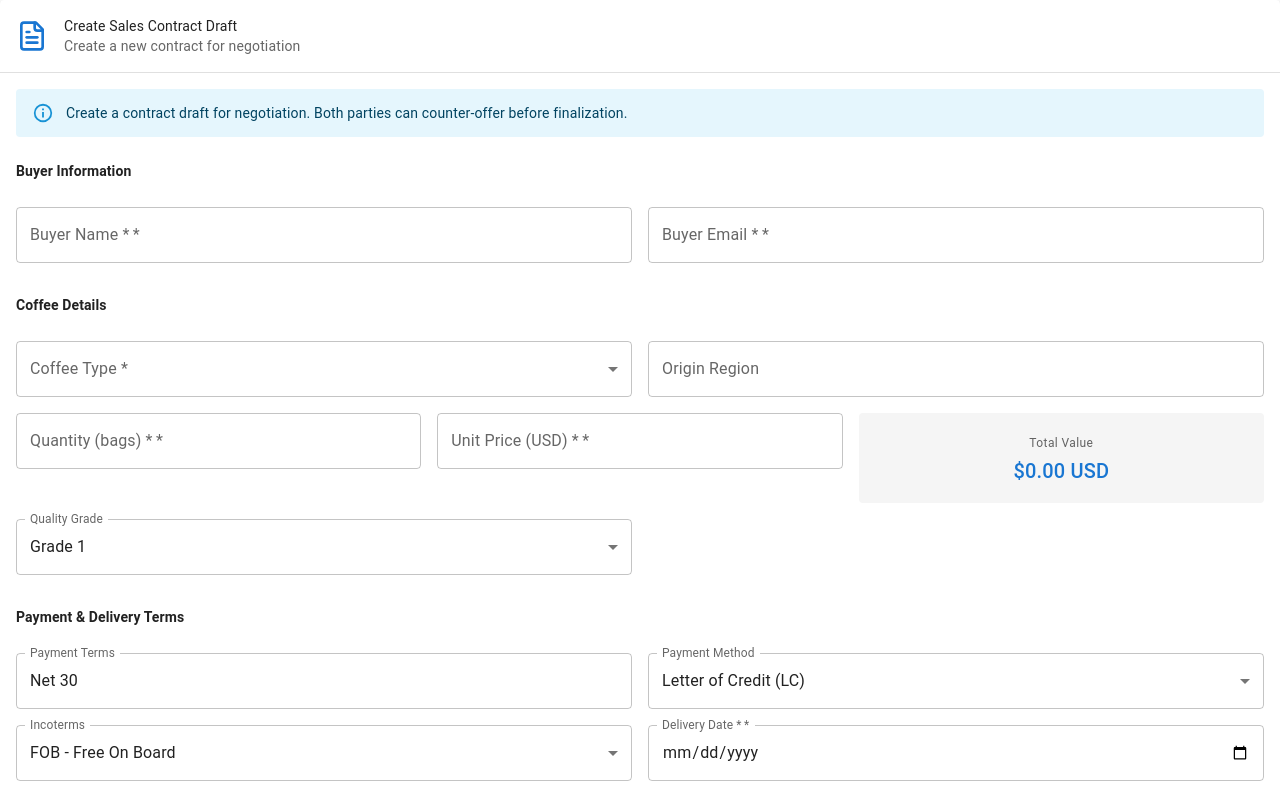
SalesContractDraftForm Component › Form Field Validation › should show error for invalid quantity (negative)
Type "-50" into the number field labelled "Quantity (bags) * *".
click(219, 441); type("-50")  # box [16,413,421,469]
(page scrolled)
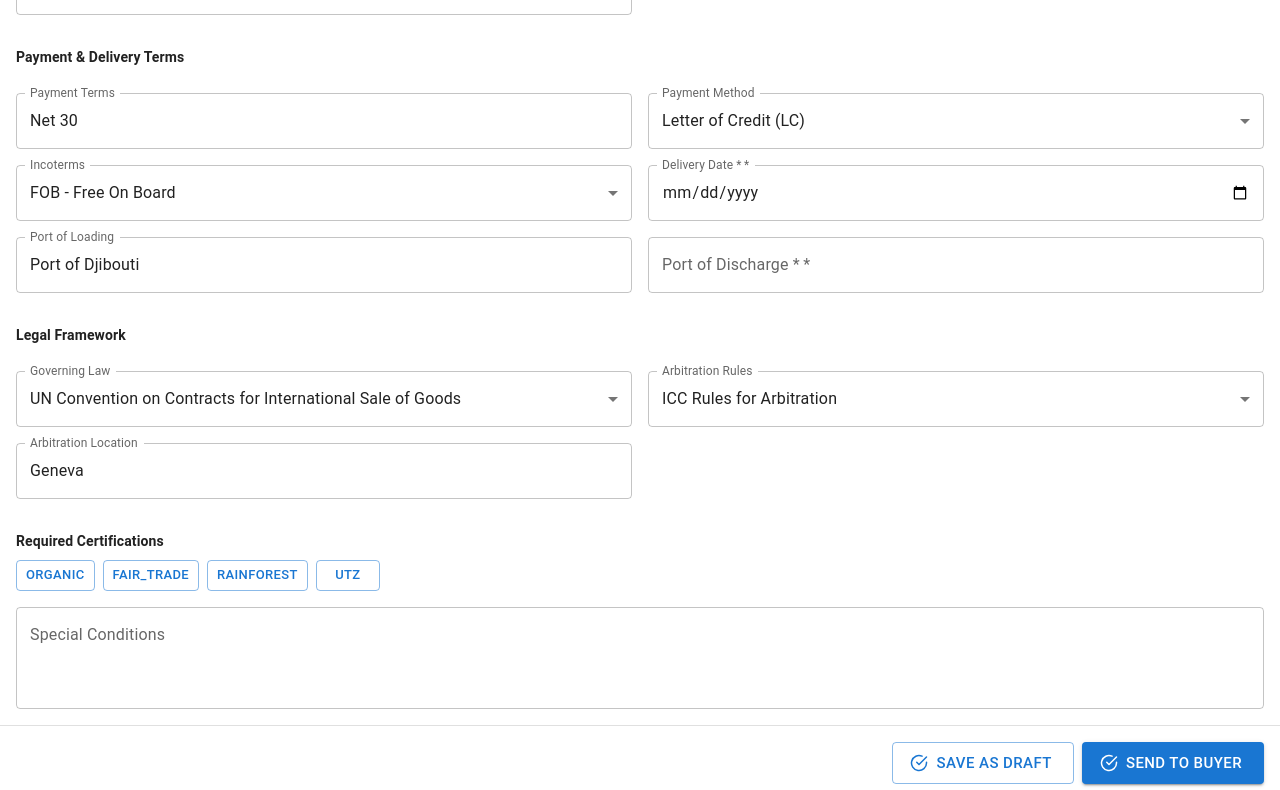
Click the button "Save as Draft".
click(983, 763)  # box [892,742,1074,784]
(page scrolled)
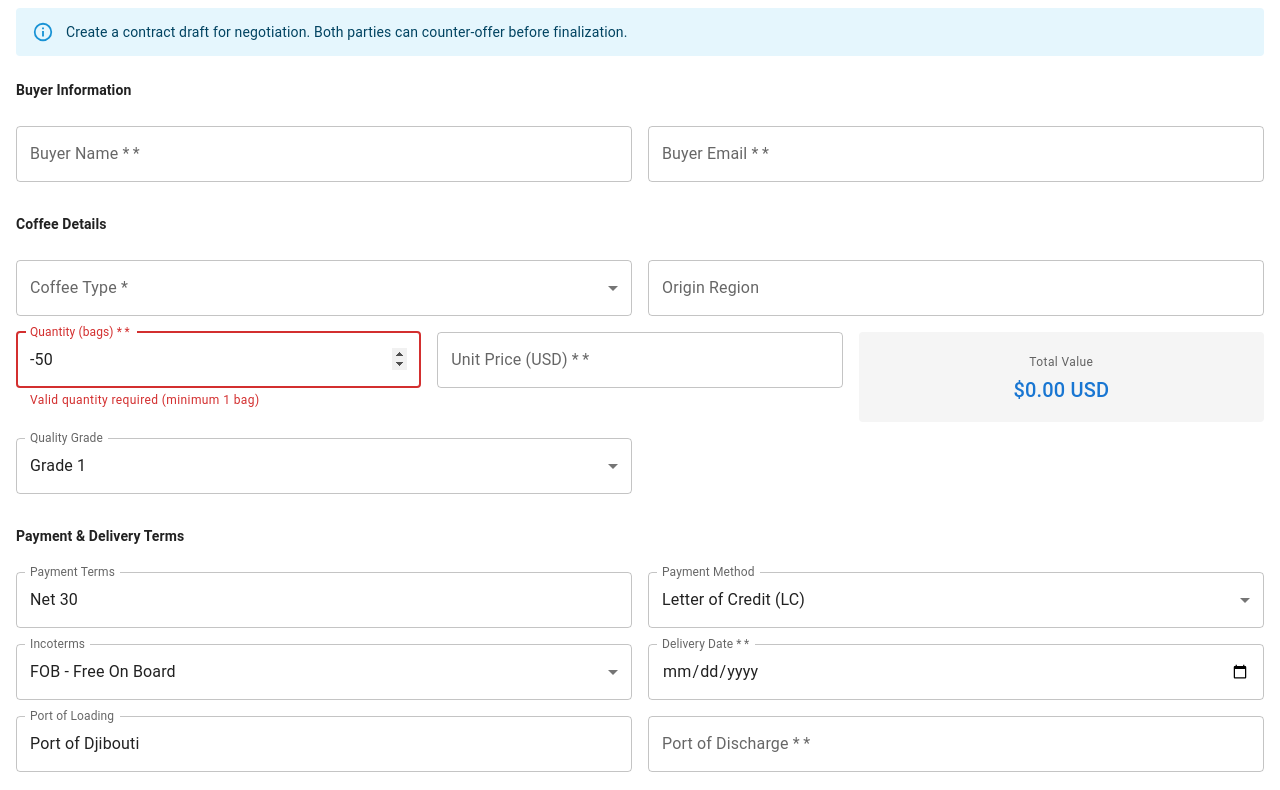
Result: the text "Valid quantity required (minimum 1 bag)" is shown at [30,393,260,407]
